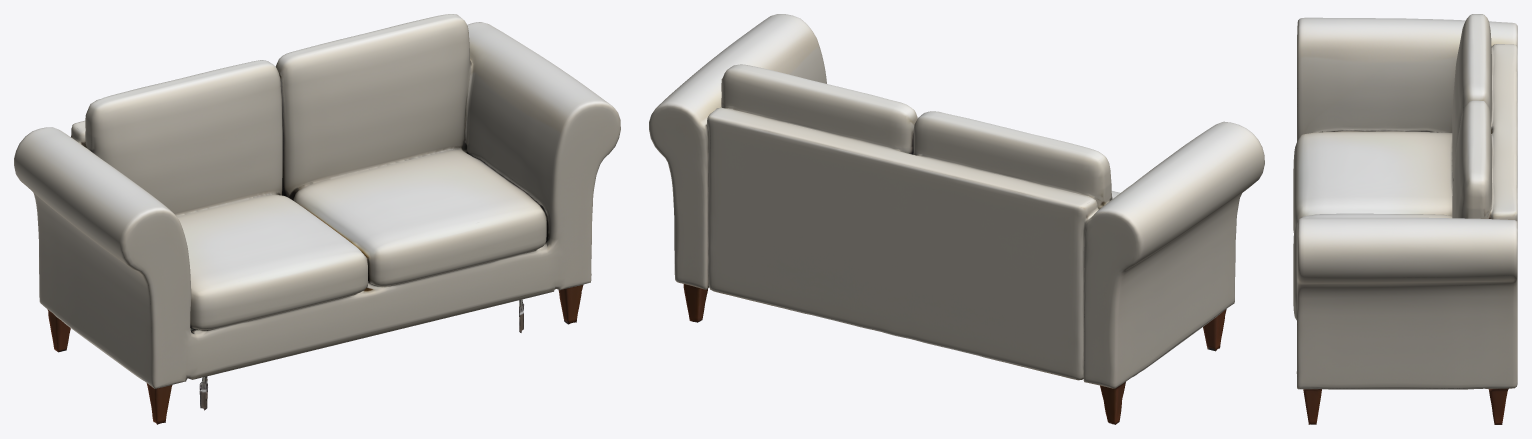
The model's file is m_sofa.fbx.
The picture shows the model from 3 angles, left to right: view 1: azimuth 30°, elevation 25°; view 2: azimuth 150°, elevation 25°; view 3: azimuth 270°, elevation 25°; orthographic projection. The views are drawn at different scales.
Parts seen in each view (by area): view 1: model; view 2: model; view 3: model.
Boxes of the visible parts, left/top/right/bottom form: model: left=14, top=14, right=620, bottom=424; model: left=649, top=14, right=1264, bottom=424; model: left=1293, top=14, right=1517, bottom=424.
Size of the model in its own units: 190 by 91.44 by 78.86.
Materials: 1 (1 with a texture image).
